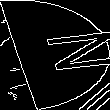N_W: (7, 30, 103, 80)
